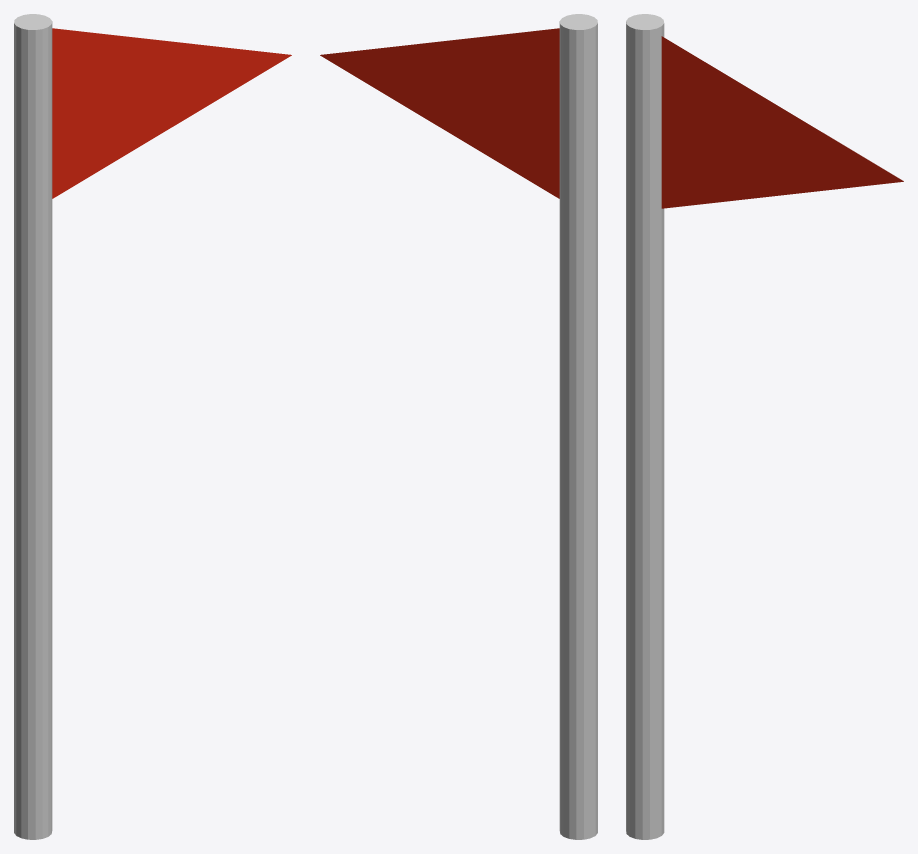
Rendered from Golf_Flag_Pole.fbx.
3 views of the same model, side by side, from view 1: azimuth 30°, elevation 25°; view 2: azimuth 150°, elevation 25°; view 3: azimuth 330°, elevation 25° (orthographic).
Parts seen in each view (by area): view 1: FlagPole, Flag; view 2: FlagPole, Flag; view 3: FlagPole, Flag.
Boxes of the visible parts, x1,y1,x2,y2 form: FlagPole: [14, 14, 52, 839]; Flag: [52, 28, 291, 198]; FlagPole: [559, 14, 597, 839]; Flag: [320, 28, 559, 198]; FlagPole: [626, 14, 664, 839]; Flag: [661, 36, 903, 208].
Size of the model in its own units: 648 by 1821 by 78.53.
